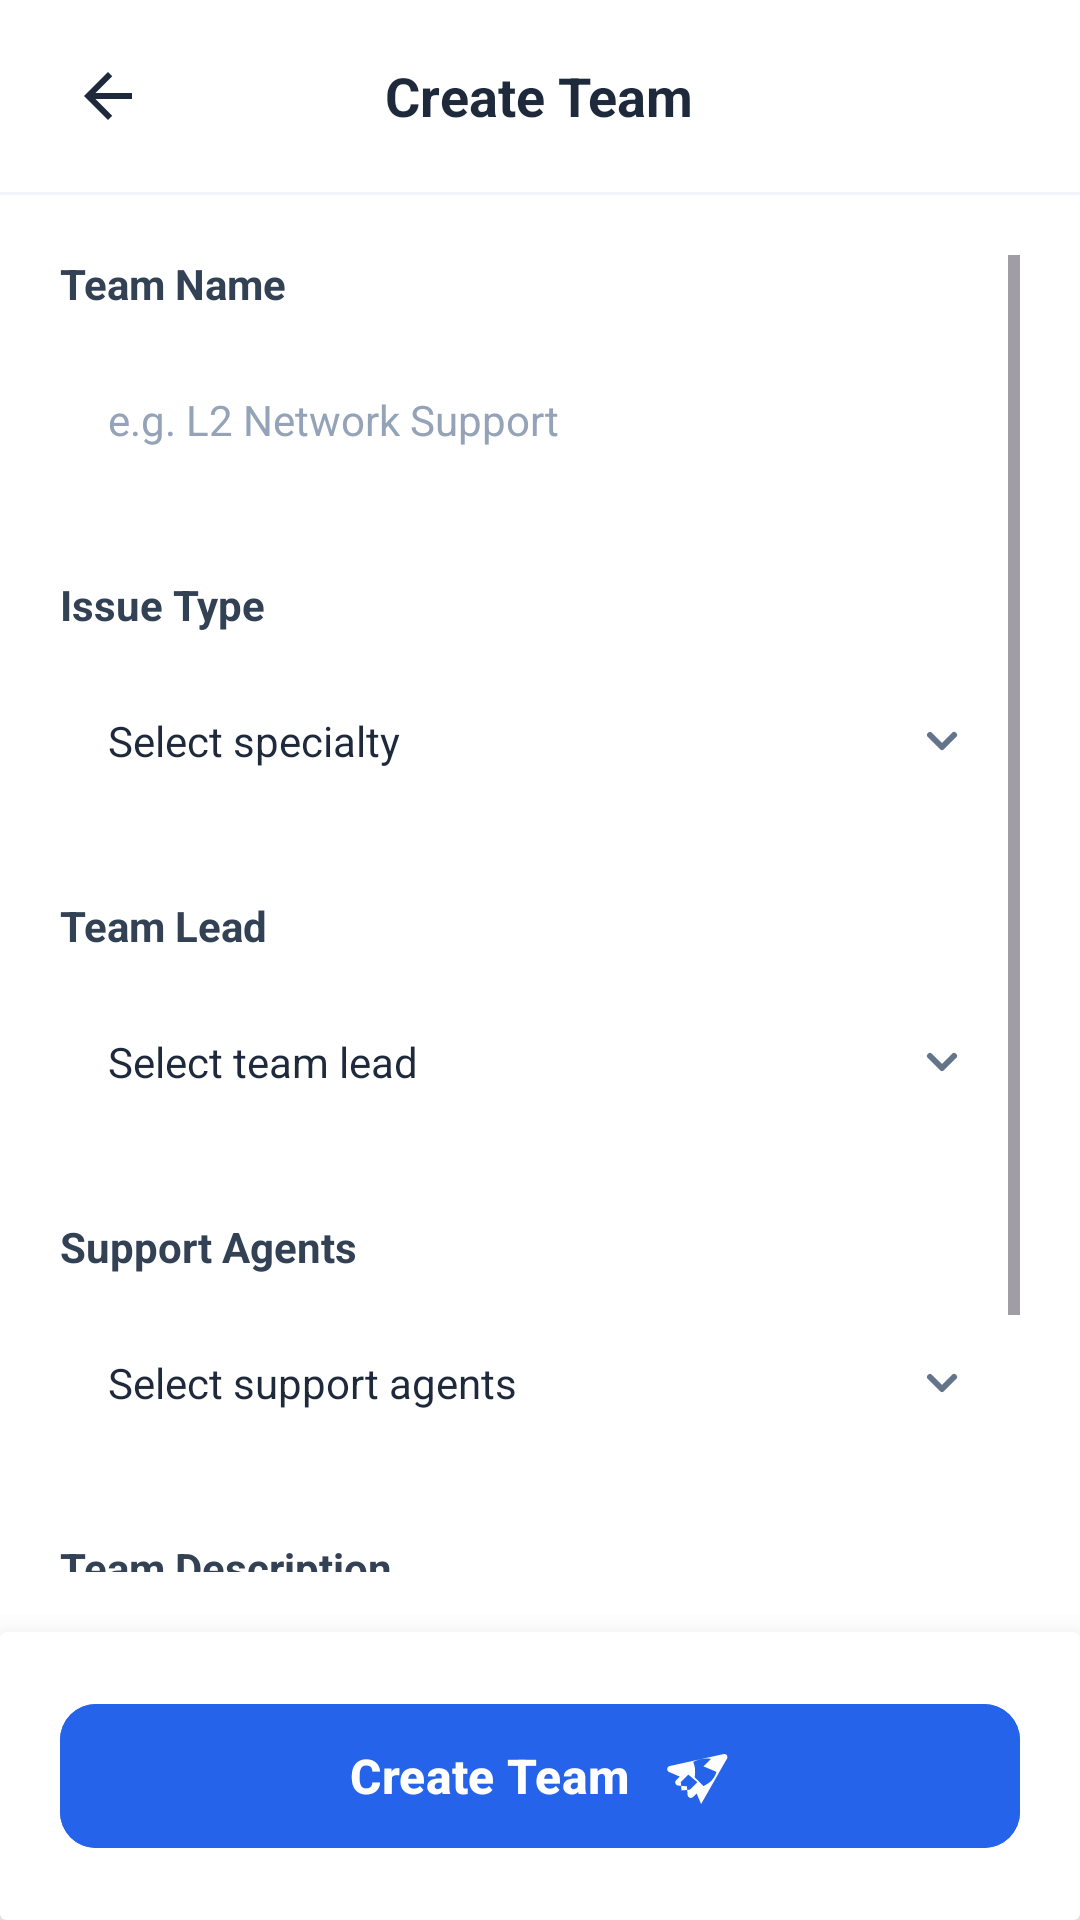

Icons on this 1080 × 1920 Android screen, each with its box as (left=x1, top=y1, right=x2, bottom=y2):
arrow back: (left=84, top=72, right=132, bottom=120)
chevron down: (left=927, top=732, right=957, bottom=750), (left=927, top=1053, right=957, bottom=1071), (left=927, top=1374, right=957, bottom=1392)
